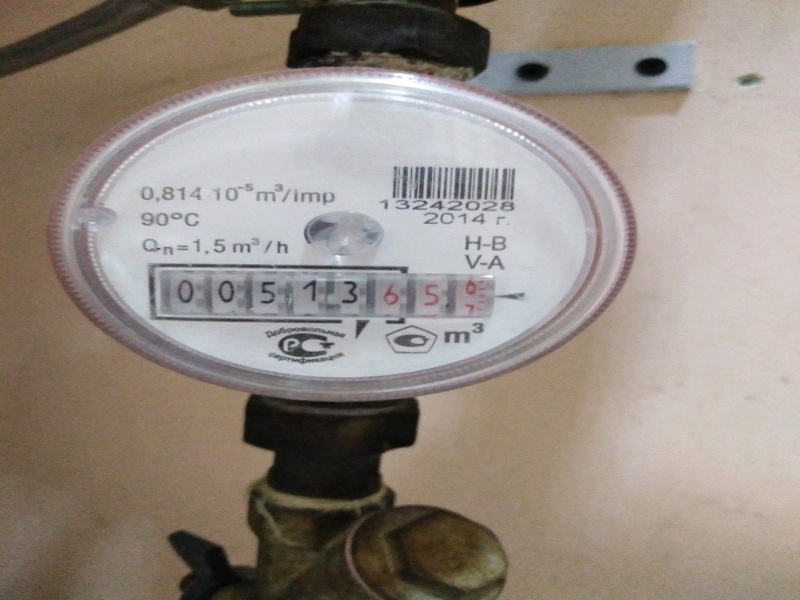meter: (152, 273, 482, 315)
